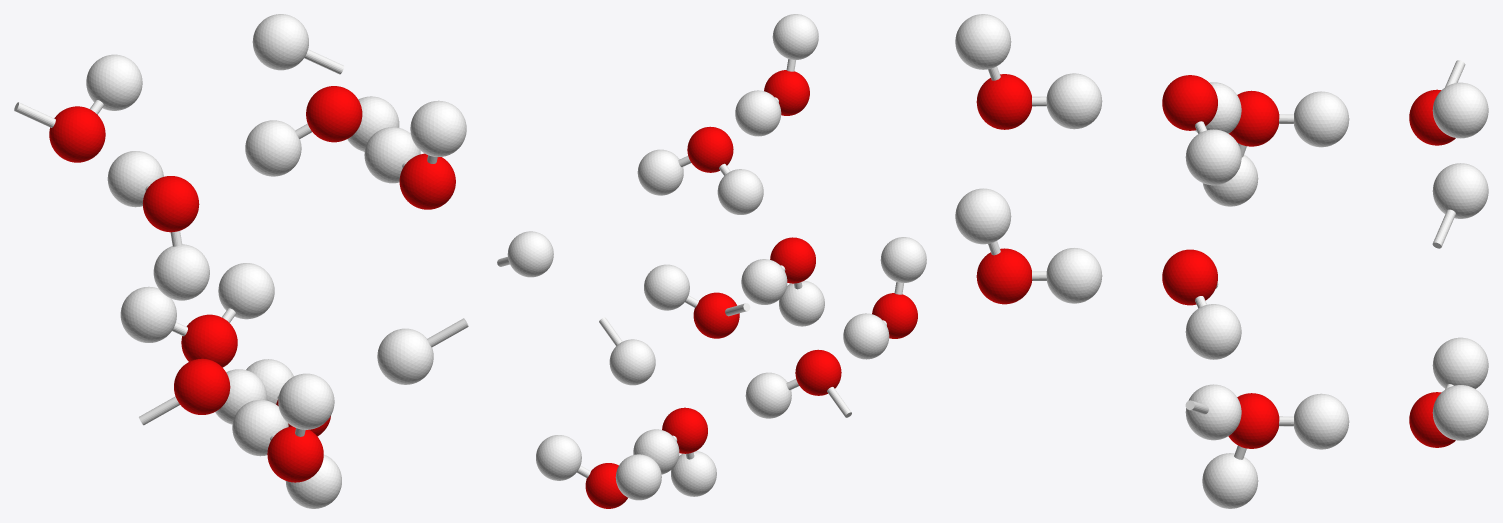
File: structure_mpstyle.glb
3 views of the same model, side by side, from view 1: azimuth 30°, elevation 25°; view 2: azimuth 150°, elevation 25°; view 3: azimuth 270°, elevation 25° (orthographic). The views are drawn at different scales.
Visible parts, largest first — view 1: world; view 2: world; view 3: world.
Boxes of the visible parts, x1=… form: world: x1=14, y1=14, x2=468, y2=508; world: x1=497, y1=14, x2=926, y2=508; world: x1=955, y1=14, x2=1488, y2=508.
Bounding box in the file's own units: 5.21 × 7.73 × 7.63.
